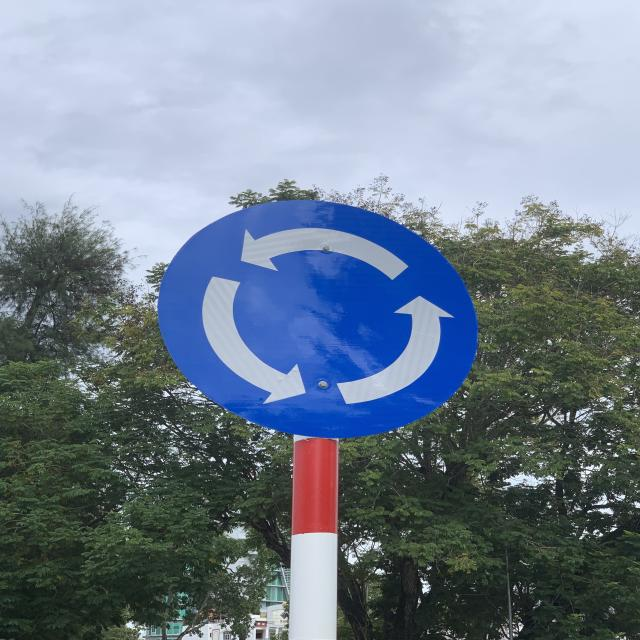Xe_Bus: (157, 197, 483, 438)
